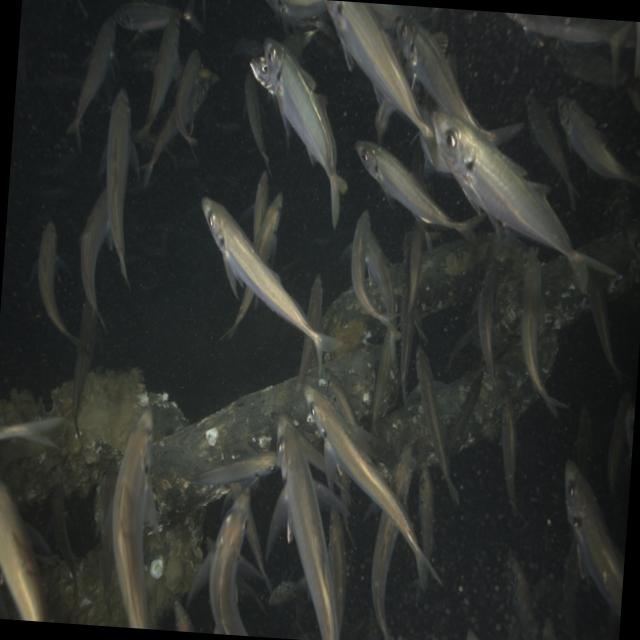ChainLink: (0, 369, 186, 501), (150, 379, 296, 522), (454, 344, 535, 452), (143, 512, 202, 627), (42, 546, 126, 626), (416, 237, 494, 316), (305, 346, 378, 415), (322, 288, 384, 358), (582, 231, 640, 298), (539, 256, 589, 331), (377, 403, 435, 465), (435, 372, 475, 443), (292, 389, 321, 447), (0, 389, 43, 423), (498, 279, 522, 334), (538, 330, 557, 374), (366, 278, 385, 311), (390, 262, 404, 297)
